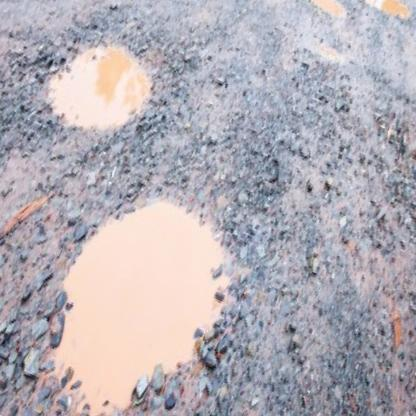pothole: (0, 146, 280, 416), (34, 12, 175, 154), (388, 129, 416, 280), (337, 0, 416, 26), (299, 0, 358, 27)
